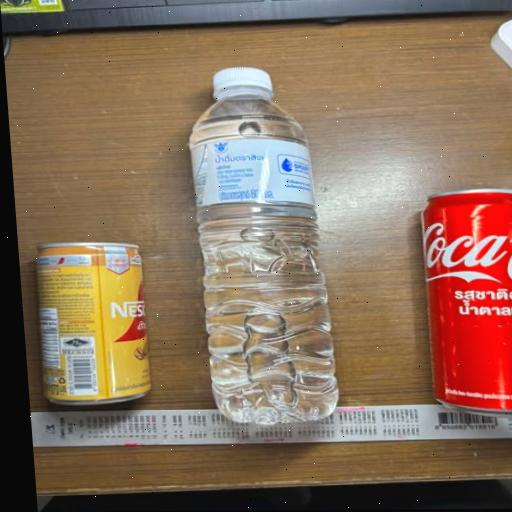bottle: (168, 48, 360, 429)
canned: (378, 160, 512, 426), (16, 220, 187, 421)
